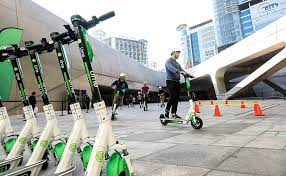kick_wheel: (192, 116, 202, 130), (161, 115, 167, 126)
